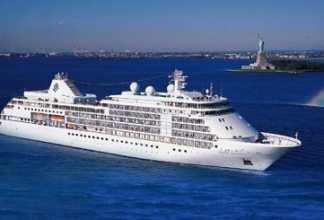youlun: (1, 72, 305, 176)
